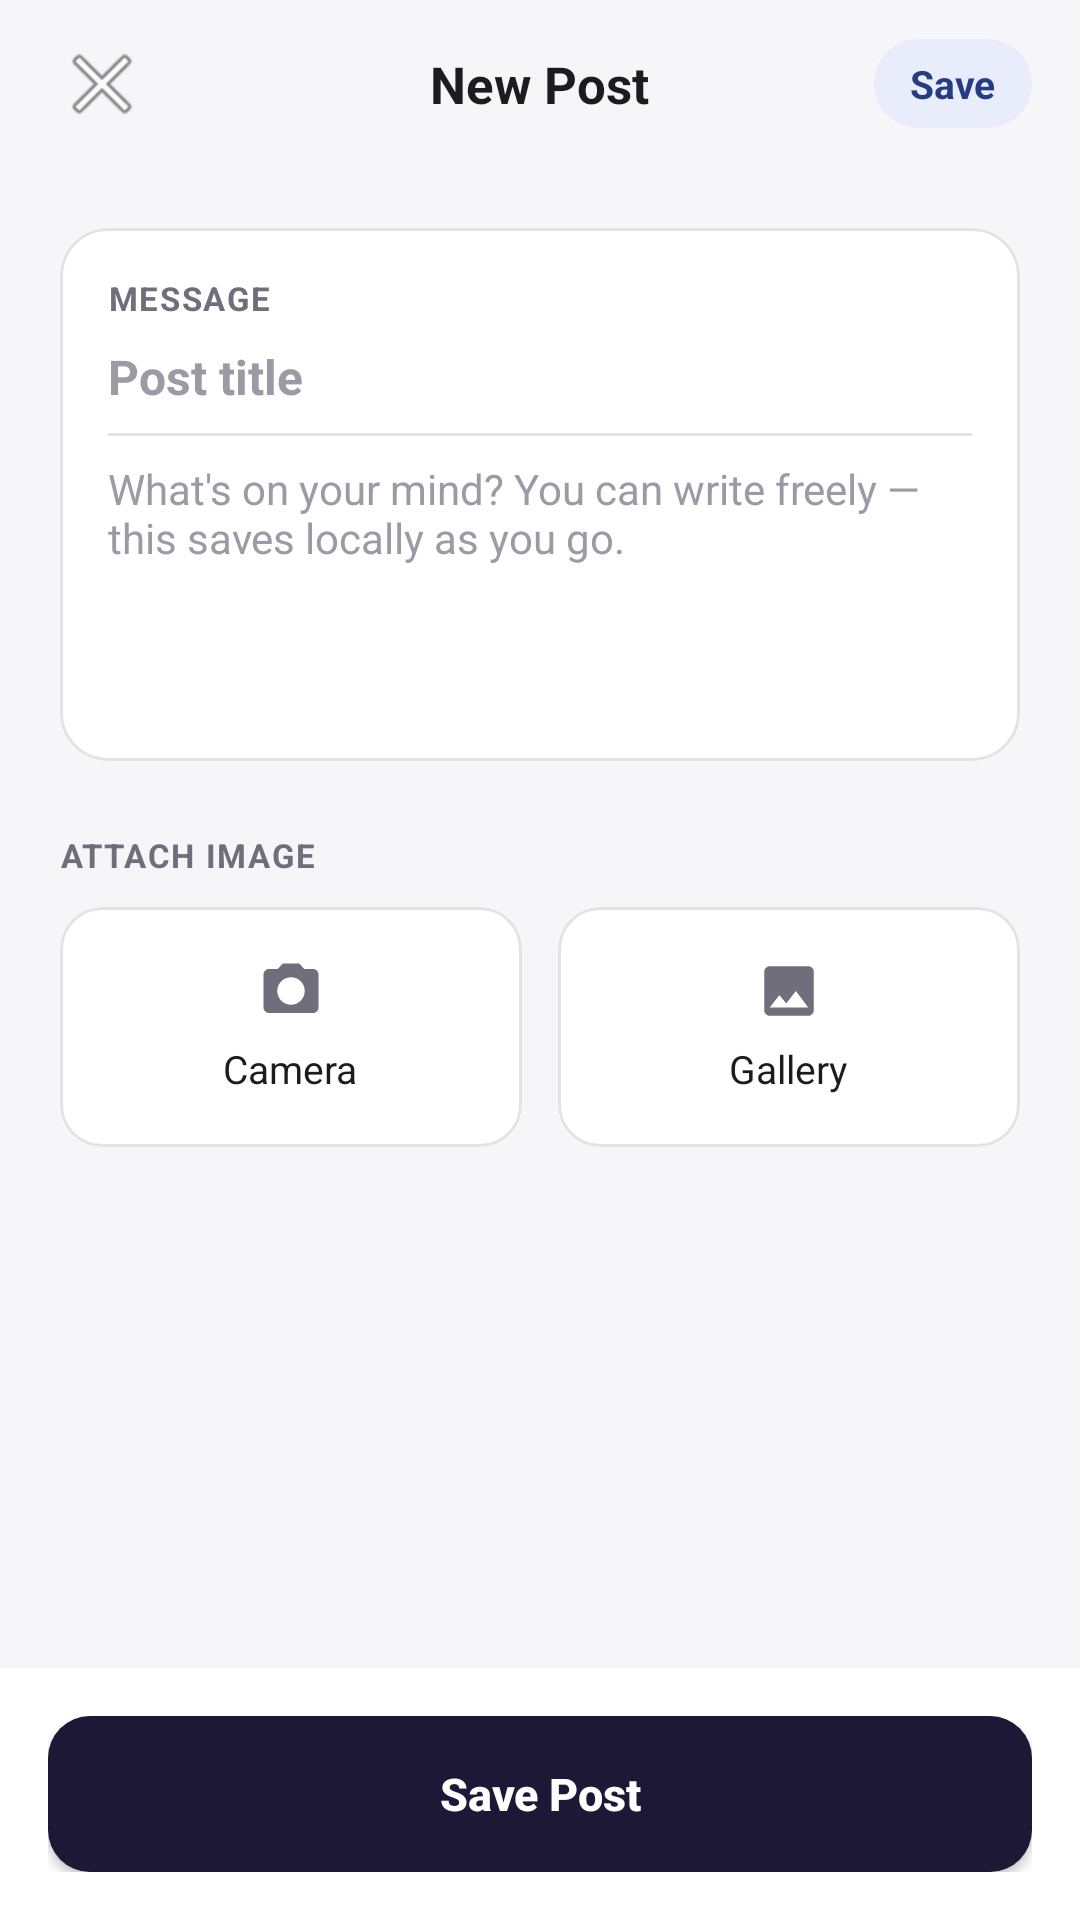

Screen size 1080w x 1920h. Icon name, then its center in pixels as point (x, y):
close clear cancel: point (102, 84)
